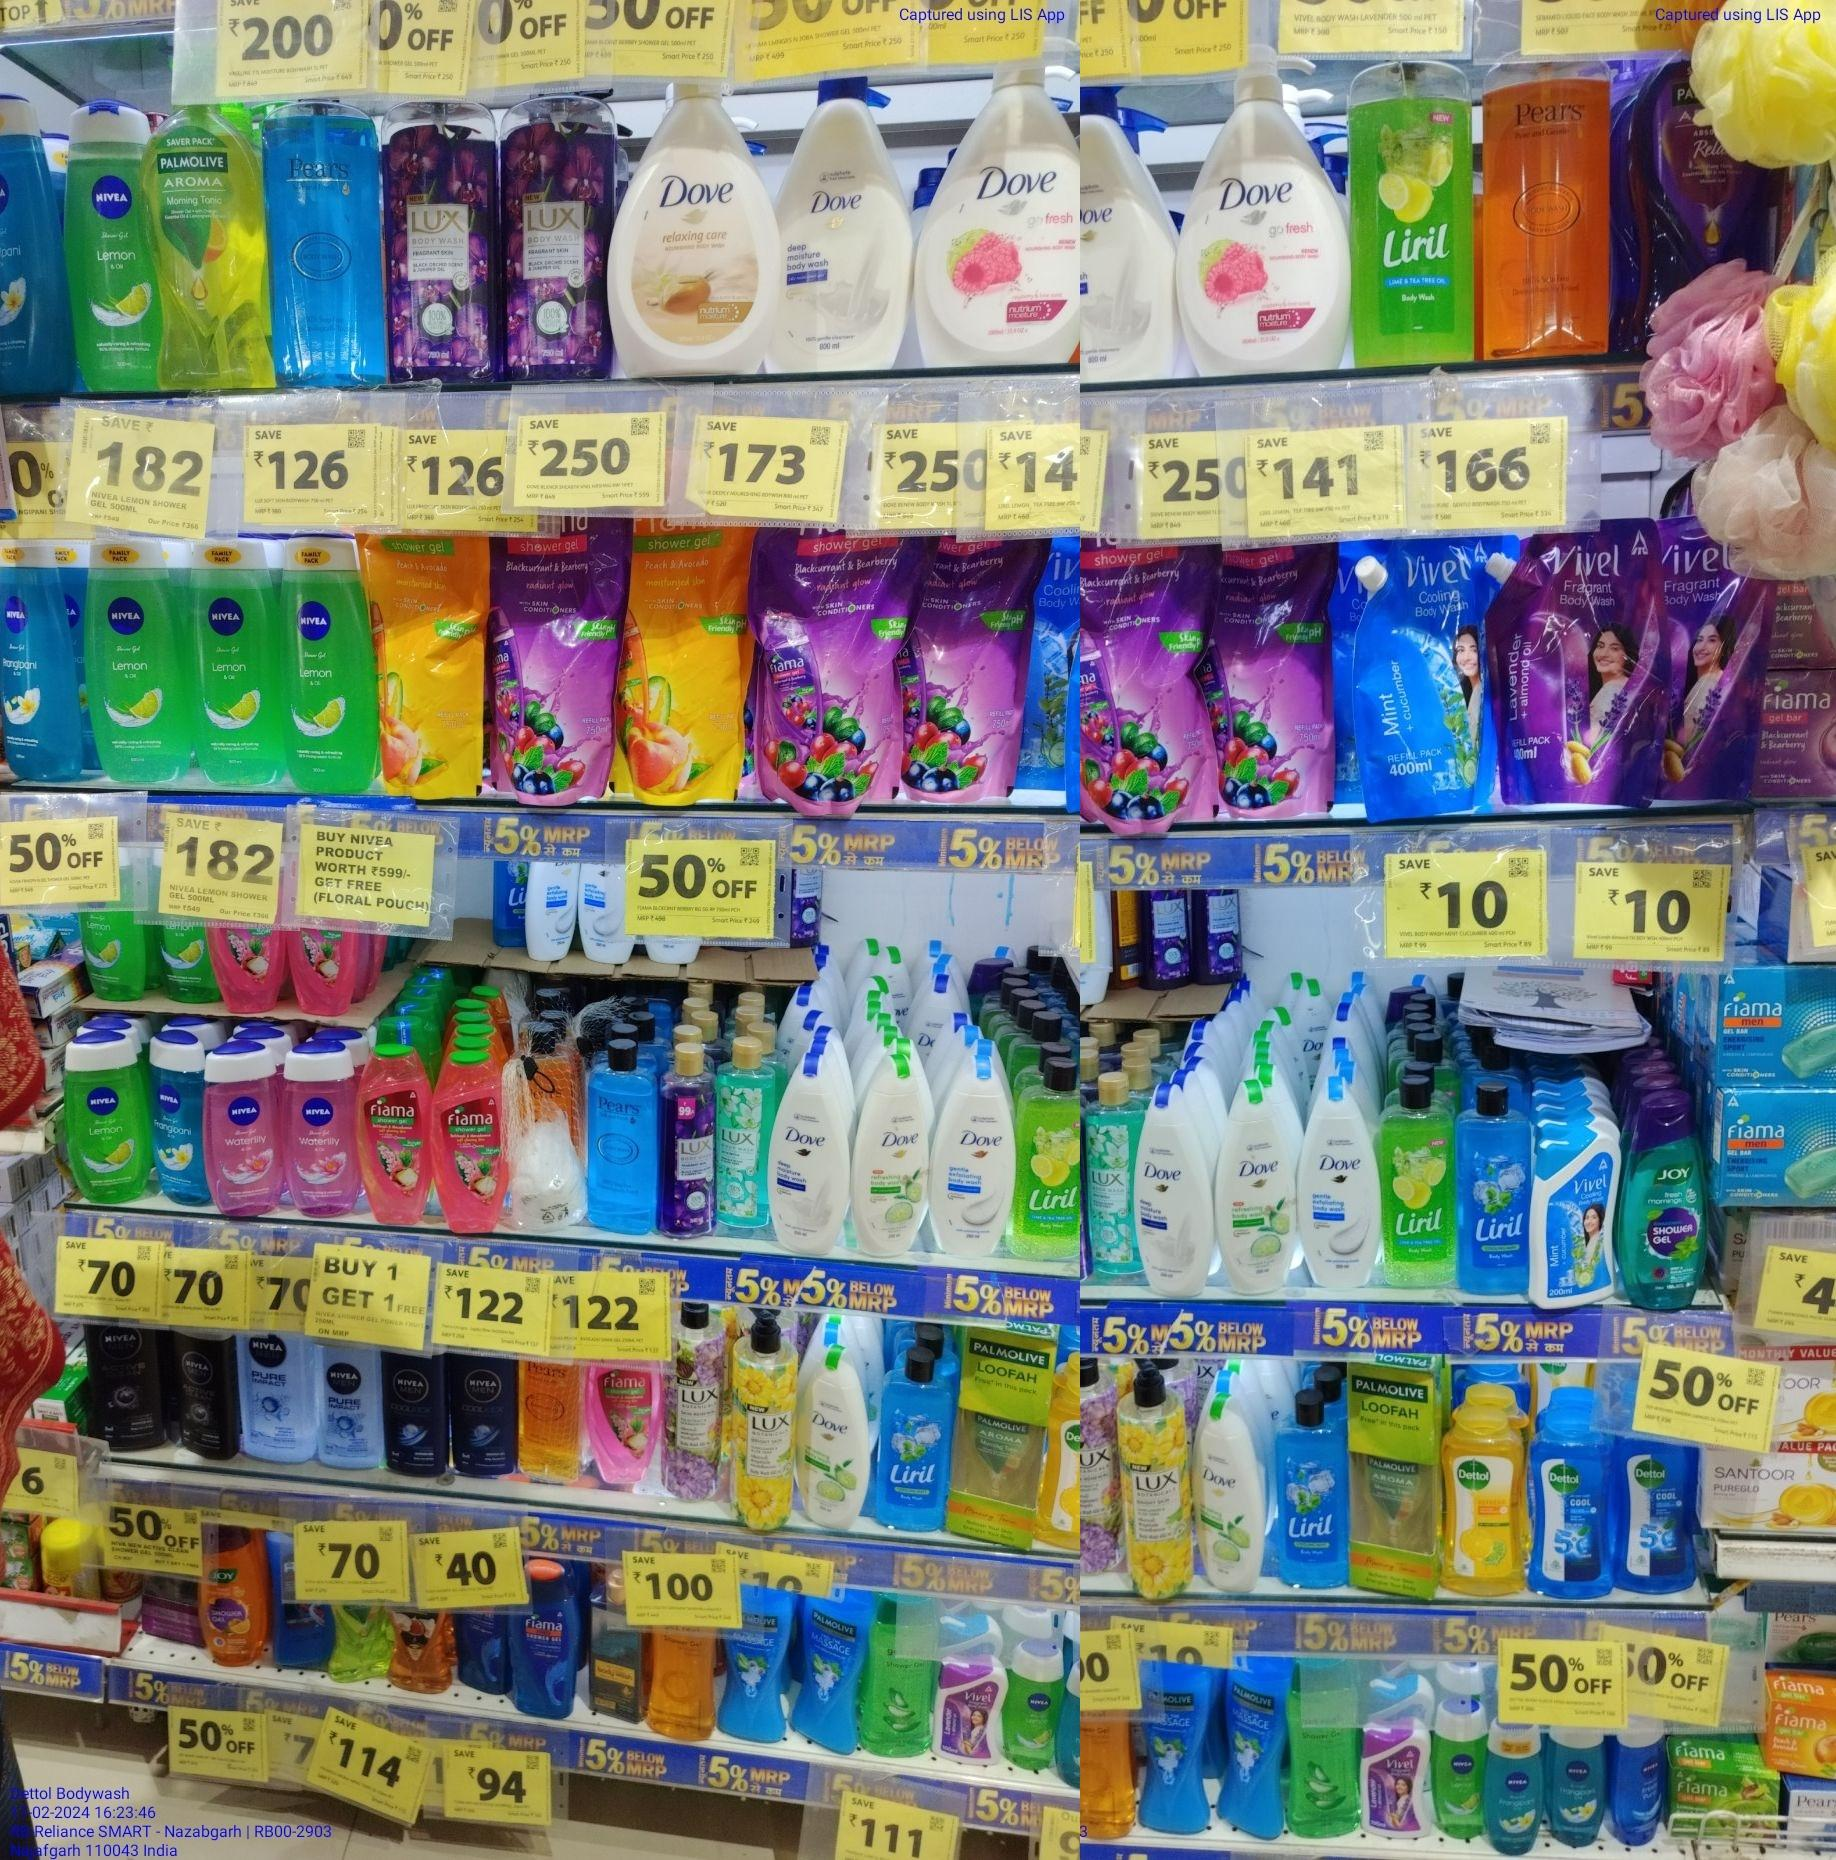Dettol_Bodywash_Cool: (1533, 1398, 1616, 1601), (1621, 1429, 1700, 1598)
Dettol_Bodywash_Refresh: (1443, 1404, 1530, 1598)
Dove_Deep_Moisture_Body_Wash_250ML: (1138, 1080, 1214, 1297), (780, 1054, 846, 1243)
Dove_Gentle_Exfoliating_Body_Wash_250ML: (1298, 1080, 1385, 1292), (936, 1049, 1016, 1253)
Dove_Refreshing_Body_Wash_250ML: (1217, 1076, 1296, 1290), (849, 1056, 931, 1253), (1194, 1391, 1271, 1593), (797, 1342, 869, 1532)
Fiama_Shower_Gel_Patchouli_and_Macadamia_250ML: (437, 1048, 506, 1238), (361, 1048, 432, 1231)
Joy_Shower_Gel_Mandarin_and_Lemongrass_250ML: (198, 1522, 266, 1665)
Joy_Shower_Gel_Mint_and_Eucalyptus_250ML: (1622, 1091, 1703, 1312)
Liril_Cooling_Mint_Body_Wash_250ML: (1453, 1085, 1525, 1297), (878, 1344, 948, 1532)
Liril_Lime_and_Tea_Tree_Oil_Body_Wash_250ML: (1273, 1387, 1350, 1593), (1385, 1073, 1451, 1290), (1019, 1066, 1079, 1261)
Lux_Black_Orchid_Scent_and_Juniper_Oil_Body_Wash_245ML: (657, 1034, 716, 1234)
Lux_Body_Wash_Skin_Detox_Freesia_Scent_and_Alove_Vera_245ML: (1081, 1065, 1137, 1283), (720, 1026, 773, 1236)
Nivea_Shower_Gel_Frangipani_and_Oil_250ML: (2, 528, 74, 782), (148, 1029, 205, 1206)
Nivea_Shower_Gel_Lemon_and_Oil_250ML: (74, 99, 163, 390), (82, 533, 185, 782), (284, 530, 378, 801), (190, 536, 284, 794), (64, 1029, 141, 1202)
Nivea_Shower_Gel_Waterlily_and_Oil_250ML: (284, 1036, 355, 1221), (208, 1039, 279, 1214)
Palmolive_Aroma_Moments_Feel_The_Massage_Shower_Gel_250ML: (1140, 1657, 1214, 1836), (1221, 1662, 1285, 1838), (795, 1591, 861, 1752), (730, 1586, 787, 1746)
Pears_Pure_Glycerin_and_Mint_Extracts_Body_Wash_250ML: (585, 1038, 657, 1236)
